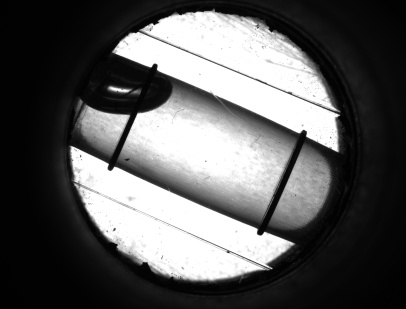line: (259, 154, 301, 216), (110, 119, 137, 152)
